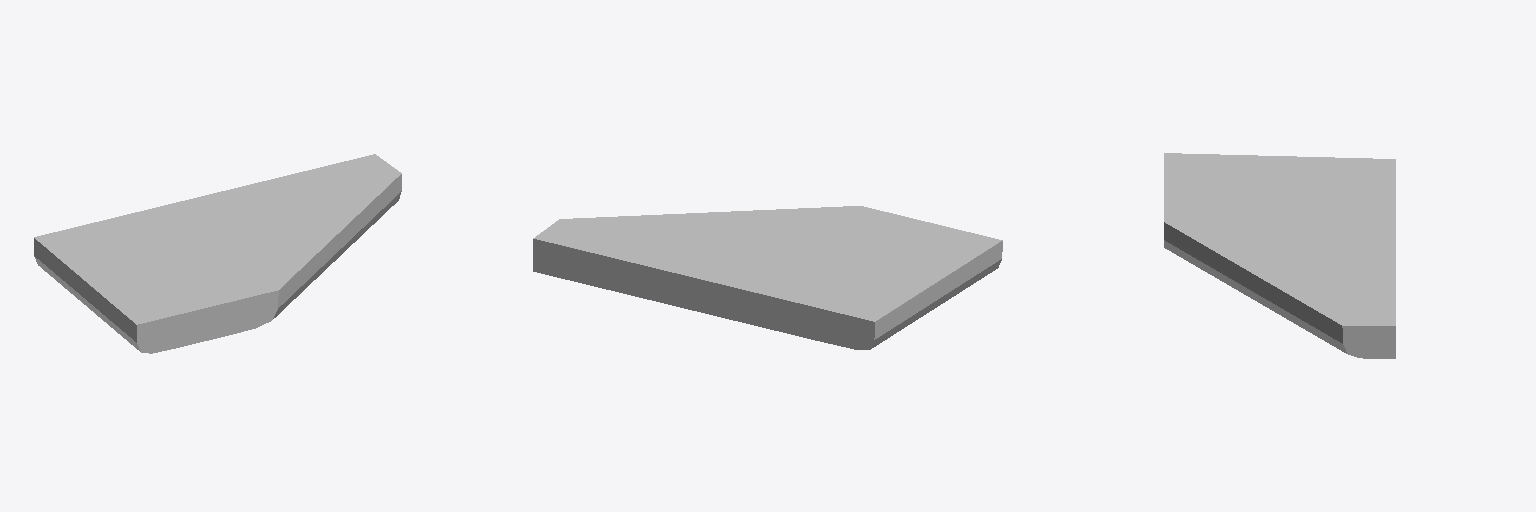
The model's file is pentagon_collision_34.obj.
3 renders of one model, left to right at view 1: azimuth 30°, elevation 25°; view 2: azimuth 150°, elevation 25°; view 3: azimuth 270°, elevation 25°, orthographic.
Size of the model in its own units: 0.0099 by 0.0009 by 0.0056.